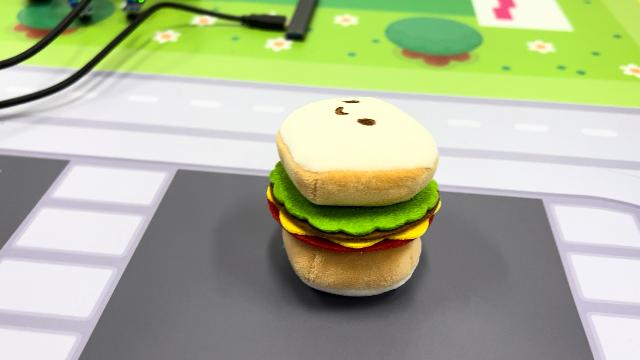sandwich: (264, 93, 444, 299)
